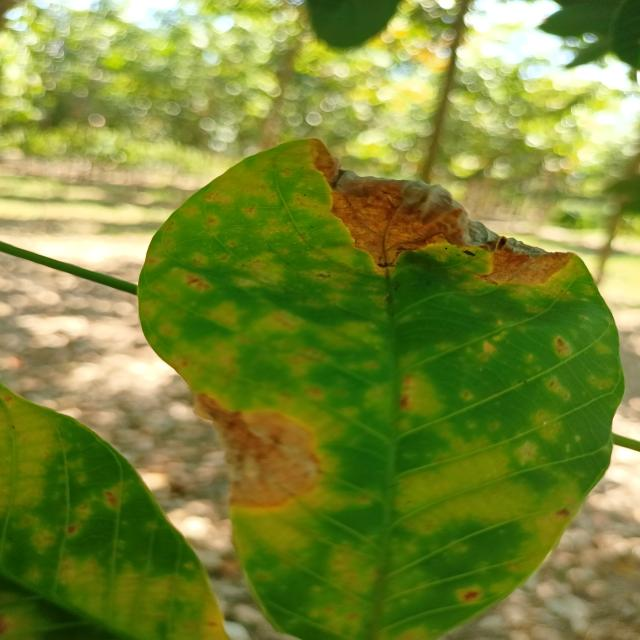Leaf-Blight: (310, 138, 574, 287), (191, 391, 324, 510)
